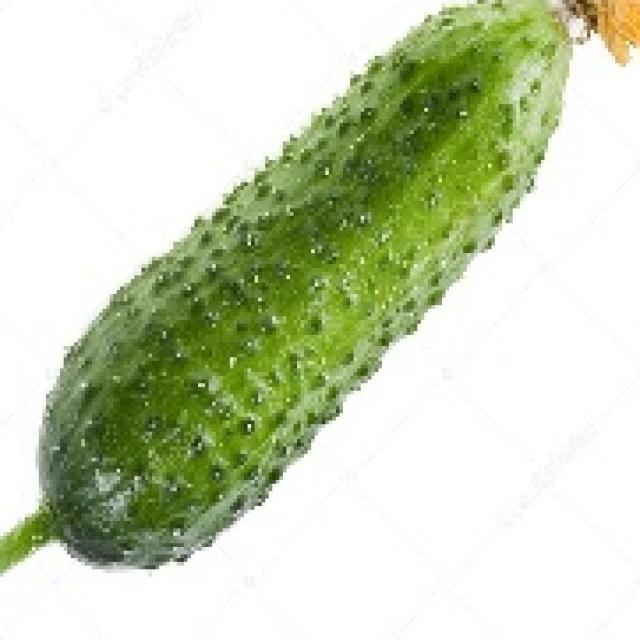cucumber: (32, 0, 580, 566)
